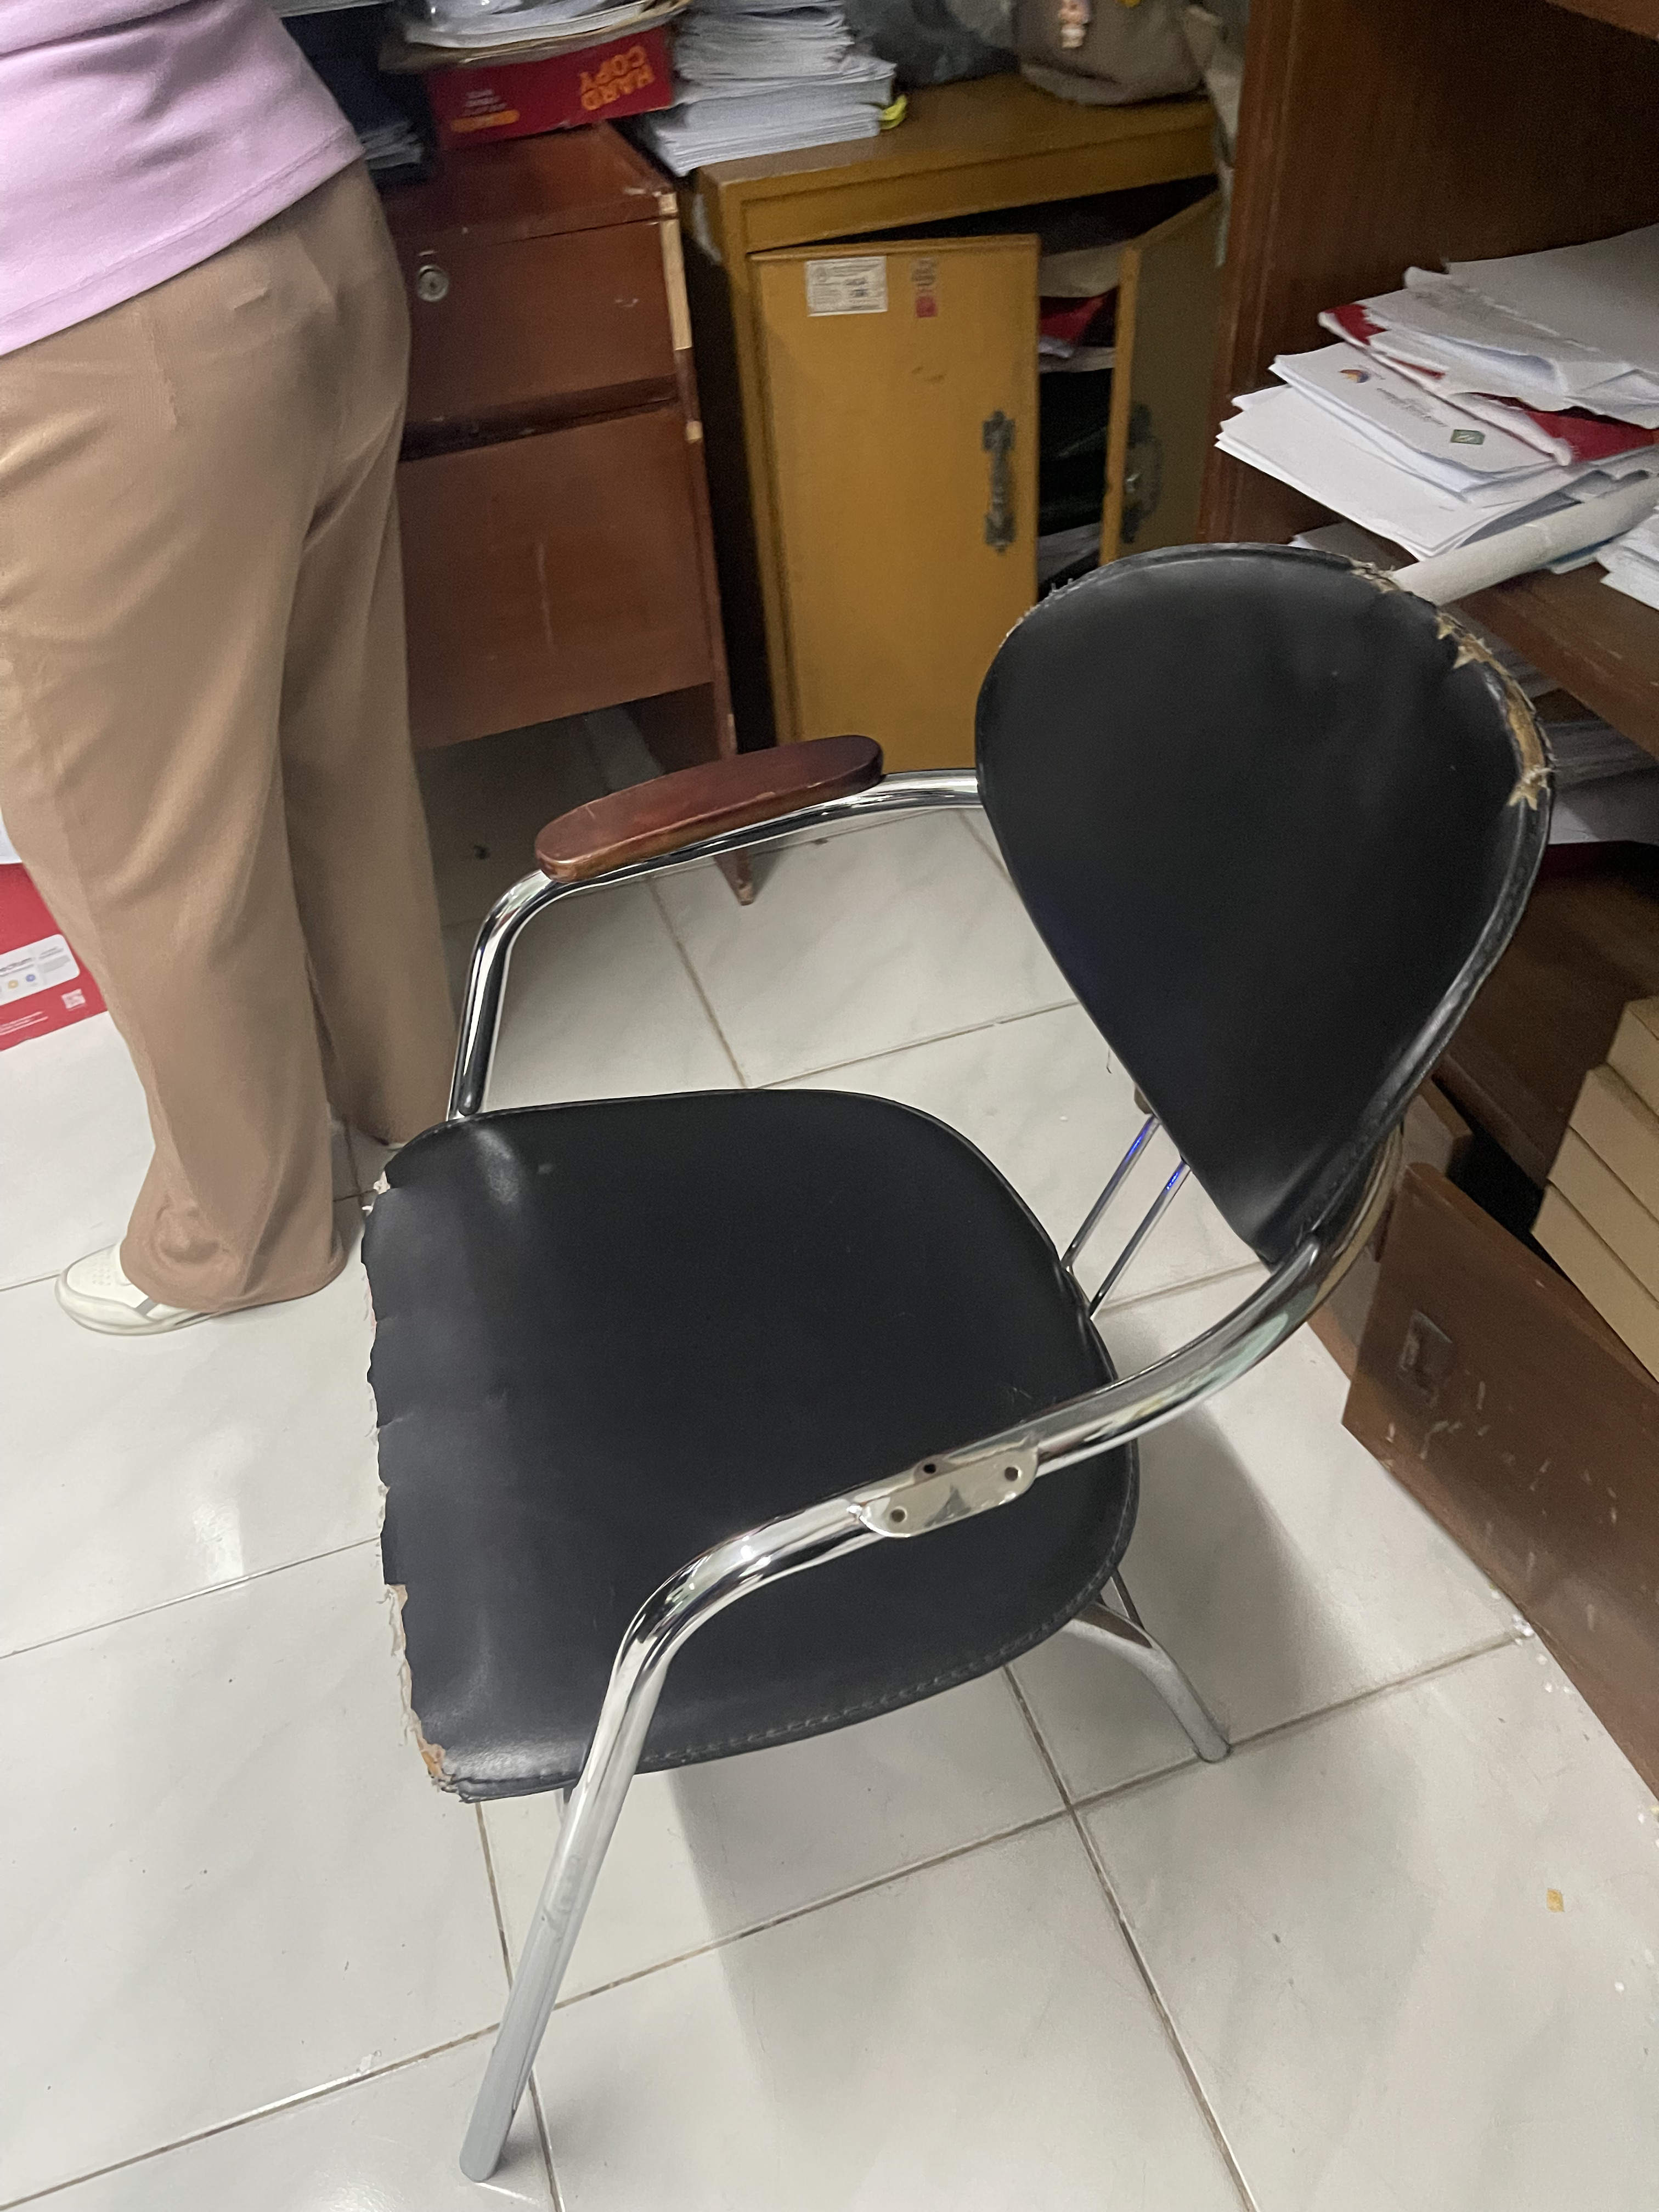chair1: (364, 531, 1561, 2191)
